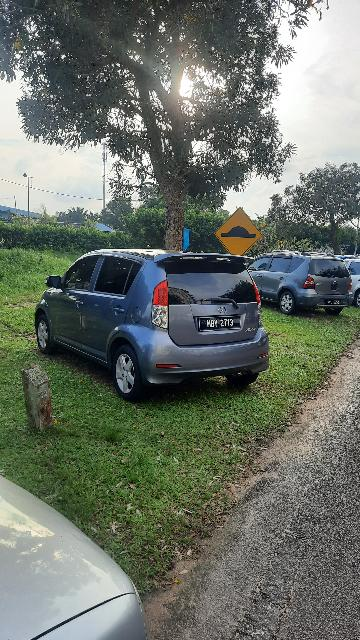License_Plate: (196, 312, 245, 332), (326, 298, 345, 309)
car: (35, 248, 273, 397), (245, 250, 351, 318)
